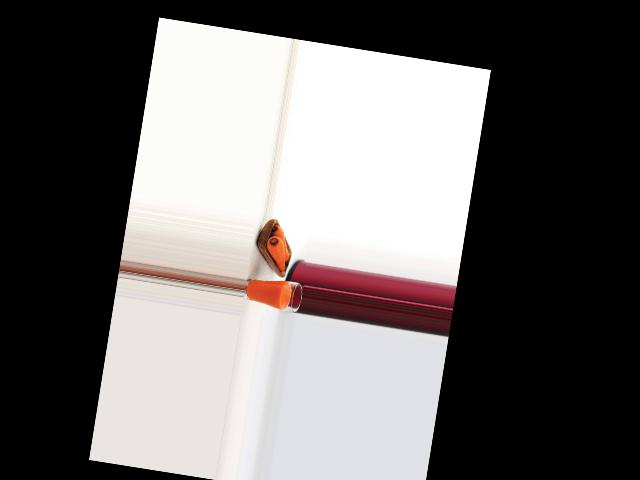carrot: (266, 223, 293, 258)
